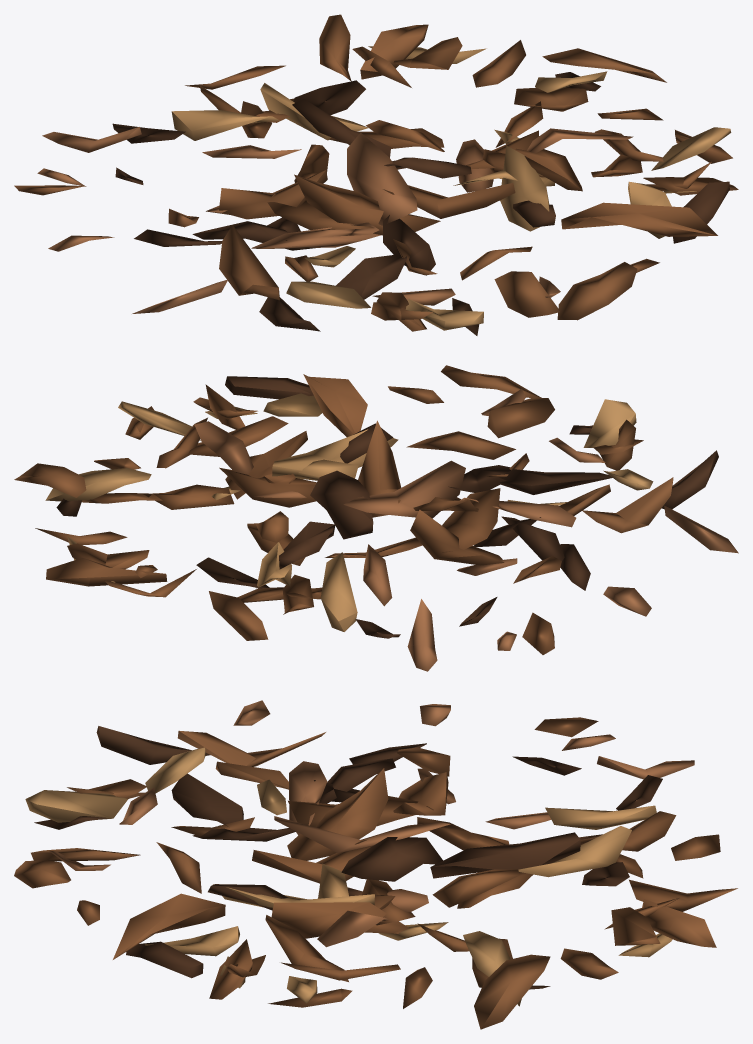
Rendered from canopy_gc_bark_bits_c_lod1.glb.
3 views of the same model, one above another, from view 1: azimuth 30°, elevation 25°; view 2: azimuth 150°, elevation 25°; view 3: azimuth 270°, elevation 25° (orthographic). The views are drawn at different scales.
Visible parts, largest first — view 1: canopy_gc_bark_bits_c.001; view 2: canopy_gc_bark_bits_c.001; view 3: canopy_gc_bark_bits_c.001.
Boxes of the visible parts, left/top/right/bottom form: canopy_gc_bark_bits_c.001: left=14, top=14, right=738, bottom=335; canopy_gc_bark_bits_c.001: left=14, top=365, right=738, bottom=671; canopy_gc_bark_bits_c.001: left=14, top=700, right=737, bottom=1029.
Size of the model in its own units: 7.77 by 0.57 by 7.24.
